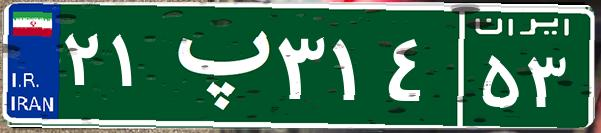1: (330, 28, 385, 110), (110, 28, 158, 105)
2: (57, 26, 110, 107)
3: (273, 28, 330, 110), (525, 38, 570, 115)
4: (385, 28, 445, 110)
5: (475, 38, 525, 113)
پ: (158, 15, 273, 115)
